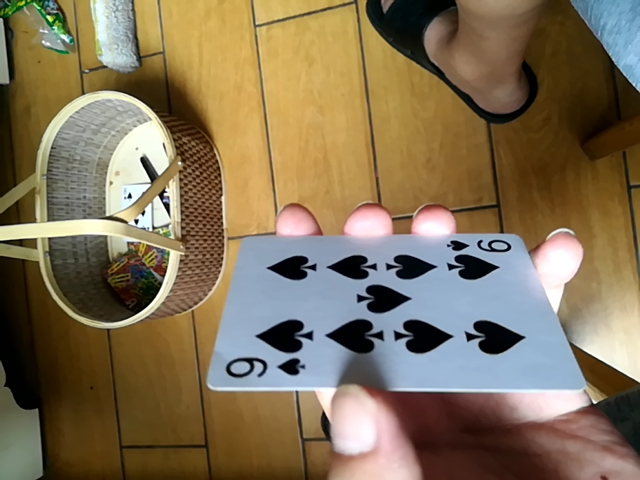ht 9: (205, 225, 588, 400)
